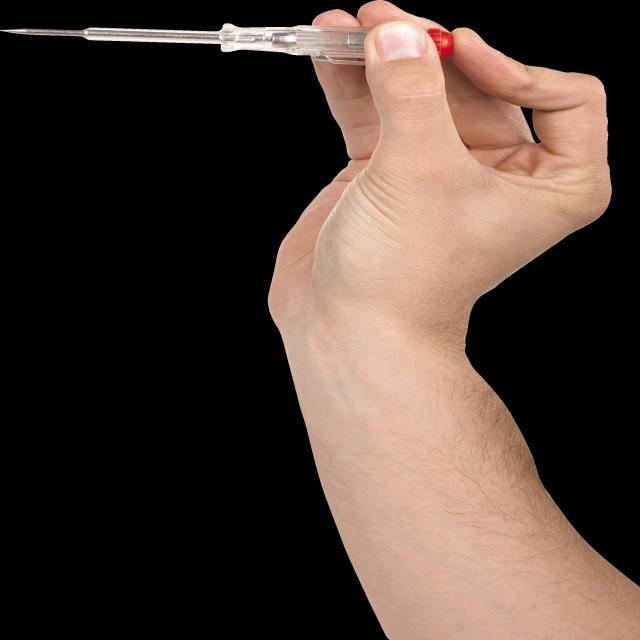screwdriver: (0, 12, 460, 69)
